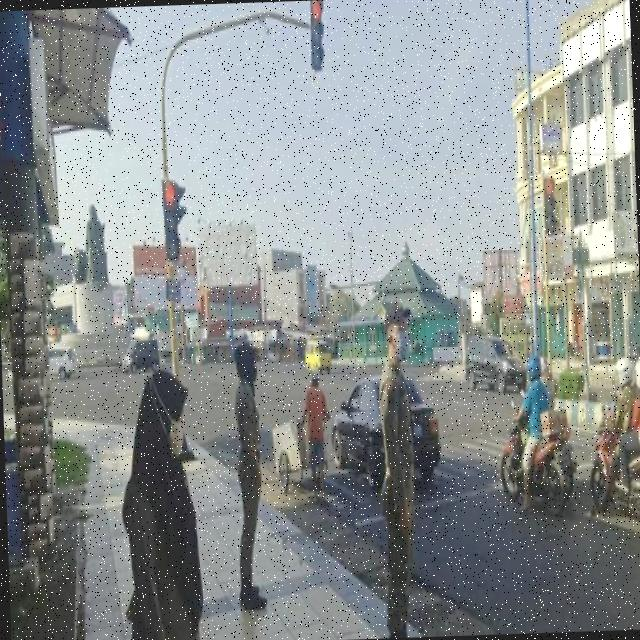Czerwone swiatlo: (162, 178, 180, 262), (307, 2, 324, 70)
